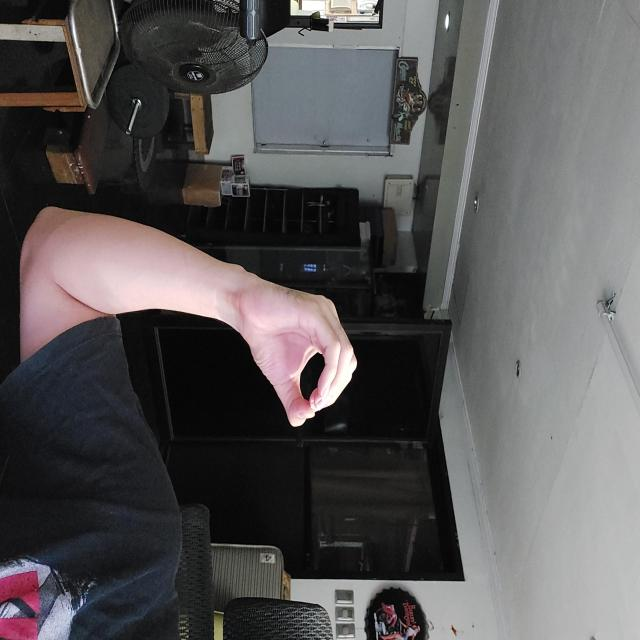O: (272, 282, 428, 401)
